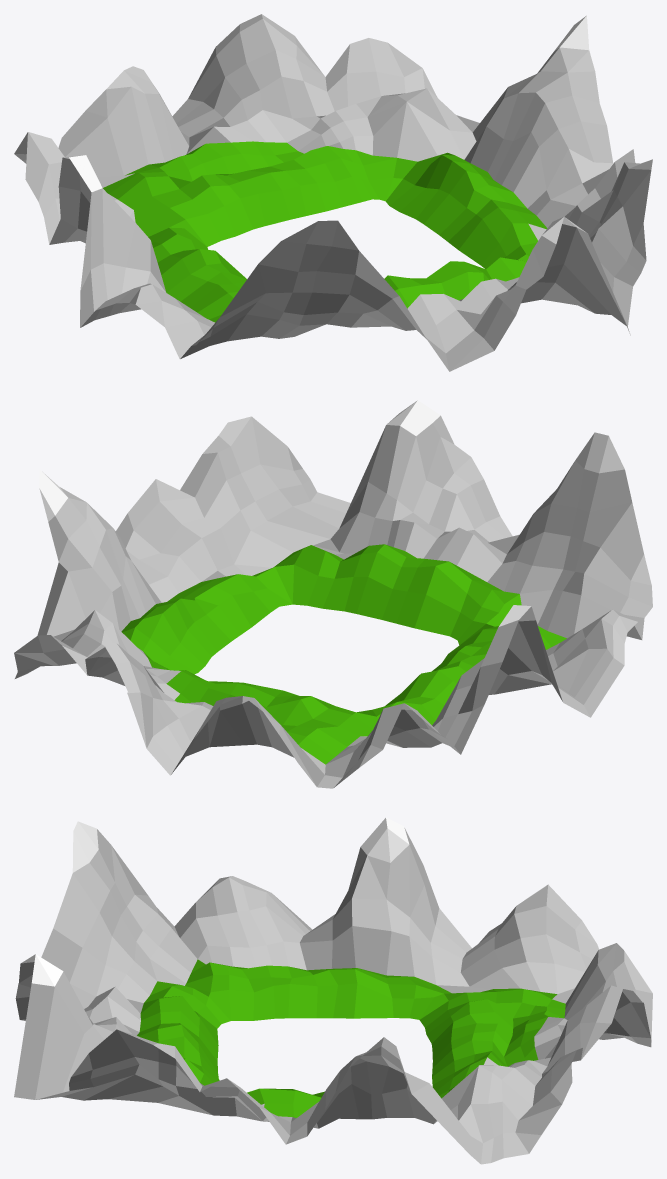
The model's file is mountain_mesh.fbx.
3 renders of one model, top to bottom at view 1: azimuth 30°, elevation 25°; view 2: azimuth 150°, elevation 25°; view 3: azimuth 270°, elevation 25°, orthographic. The views are drawn at different scales.
Parts seen in each view (by area): view 1: mountain; view 2: mountain; view 3: mountain.
Boxes of the visible parts, x1,y1,x2,y2 form: mountain: (14, 14, 652, 371); mountain: (14, 400, 652, 788); mountain: (14, 817, 652, 1164).
Bounding box in the file's own units: 108 × 33.3 × 116.
